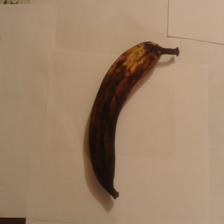Banana Rotten: (83, 8, 138, 205)
